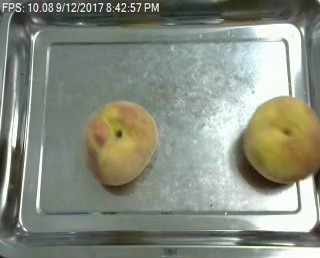Peach: (242, 94, 320, 184), (82, 100, 158, 187)
